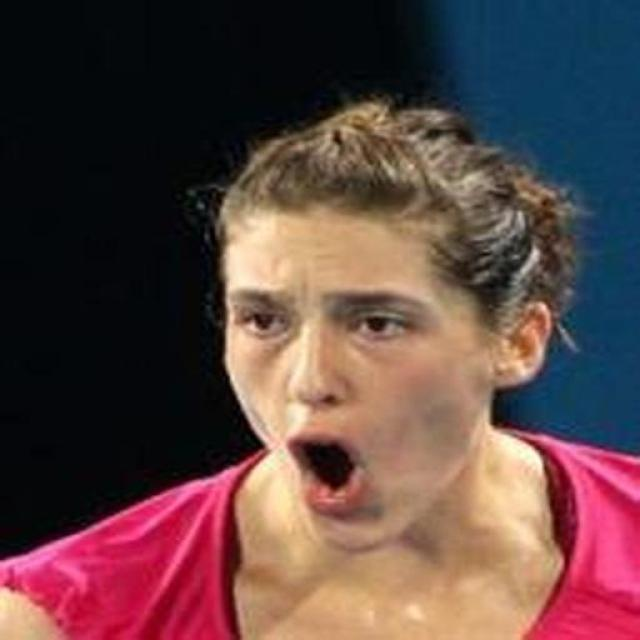bareface: (233, 236, 492, 534)
